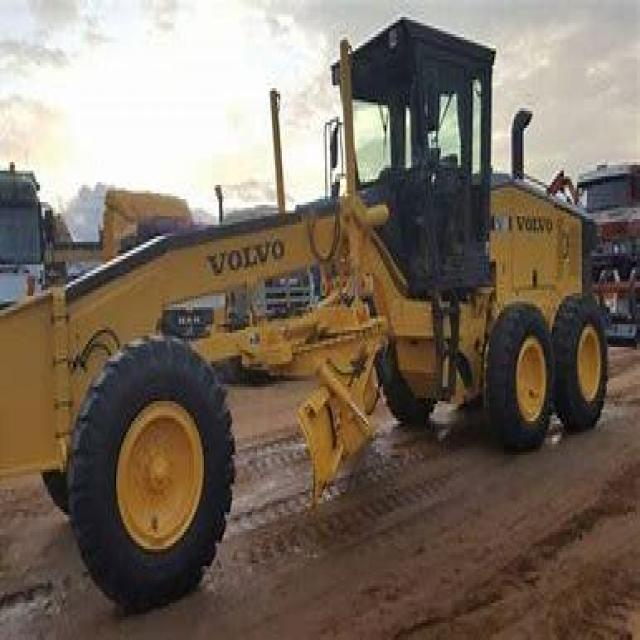Grader: (0, 3, 617, 634)
